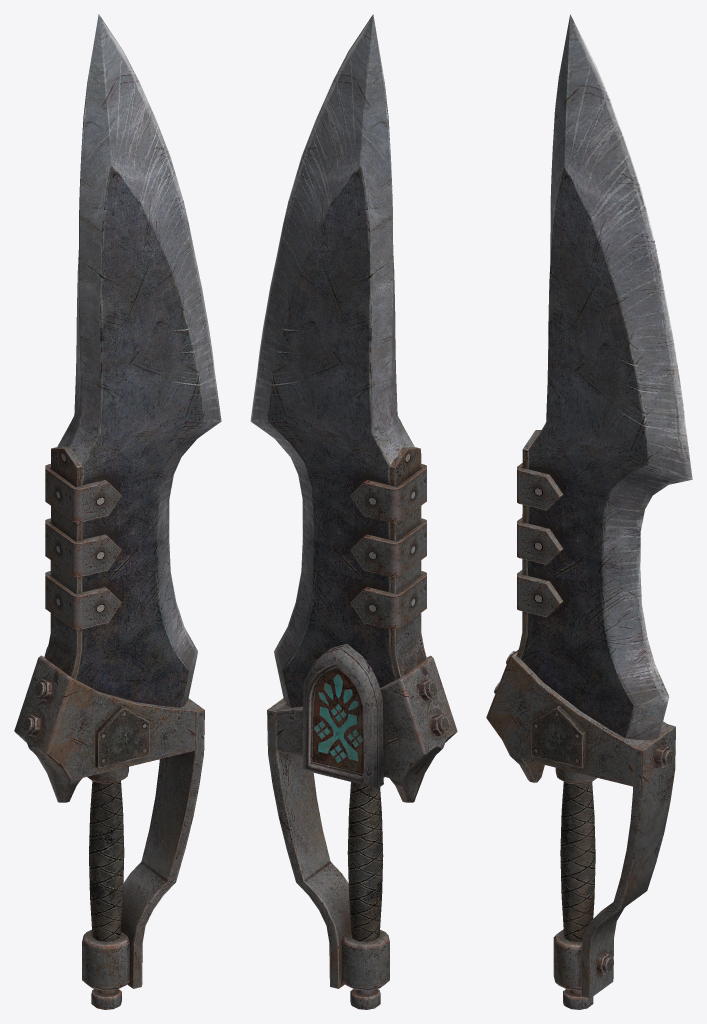
File: bs_sou001.obj
The picture shows the model from 3 angles, left to right: view 1: azimuth 30°, elevation 25°; view 2: azimuth 150°, elevation 25°; view 3: azimuth 330°, elevation 25°; orthographic projection.
Parts seen in each view (by area): view 1: bs_sou001_000_LOD_1; view 2: bs_sou001_000_LOD_1; view 3: bs_sou001_000_LOD_1.
Boxes of the visible parts, x1,y1,x2,y2 form: bs_sou001_000_LOD_1: [14, 14, 221, 1009]; bs_sou001_000_LOD_1: [250, 14, 457, 1009]; bs_sou001_000_LOD_1: [486, 14, 692, 1009].
Size of the model in its own units: 22.3 by 107 by 9.83.
